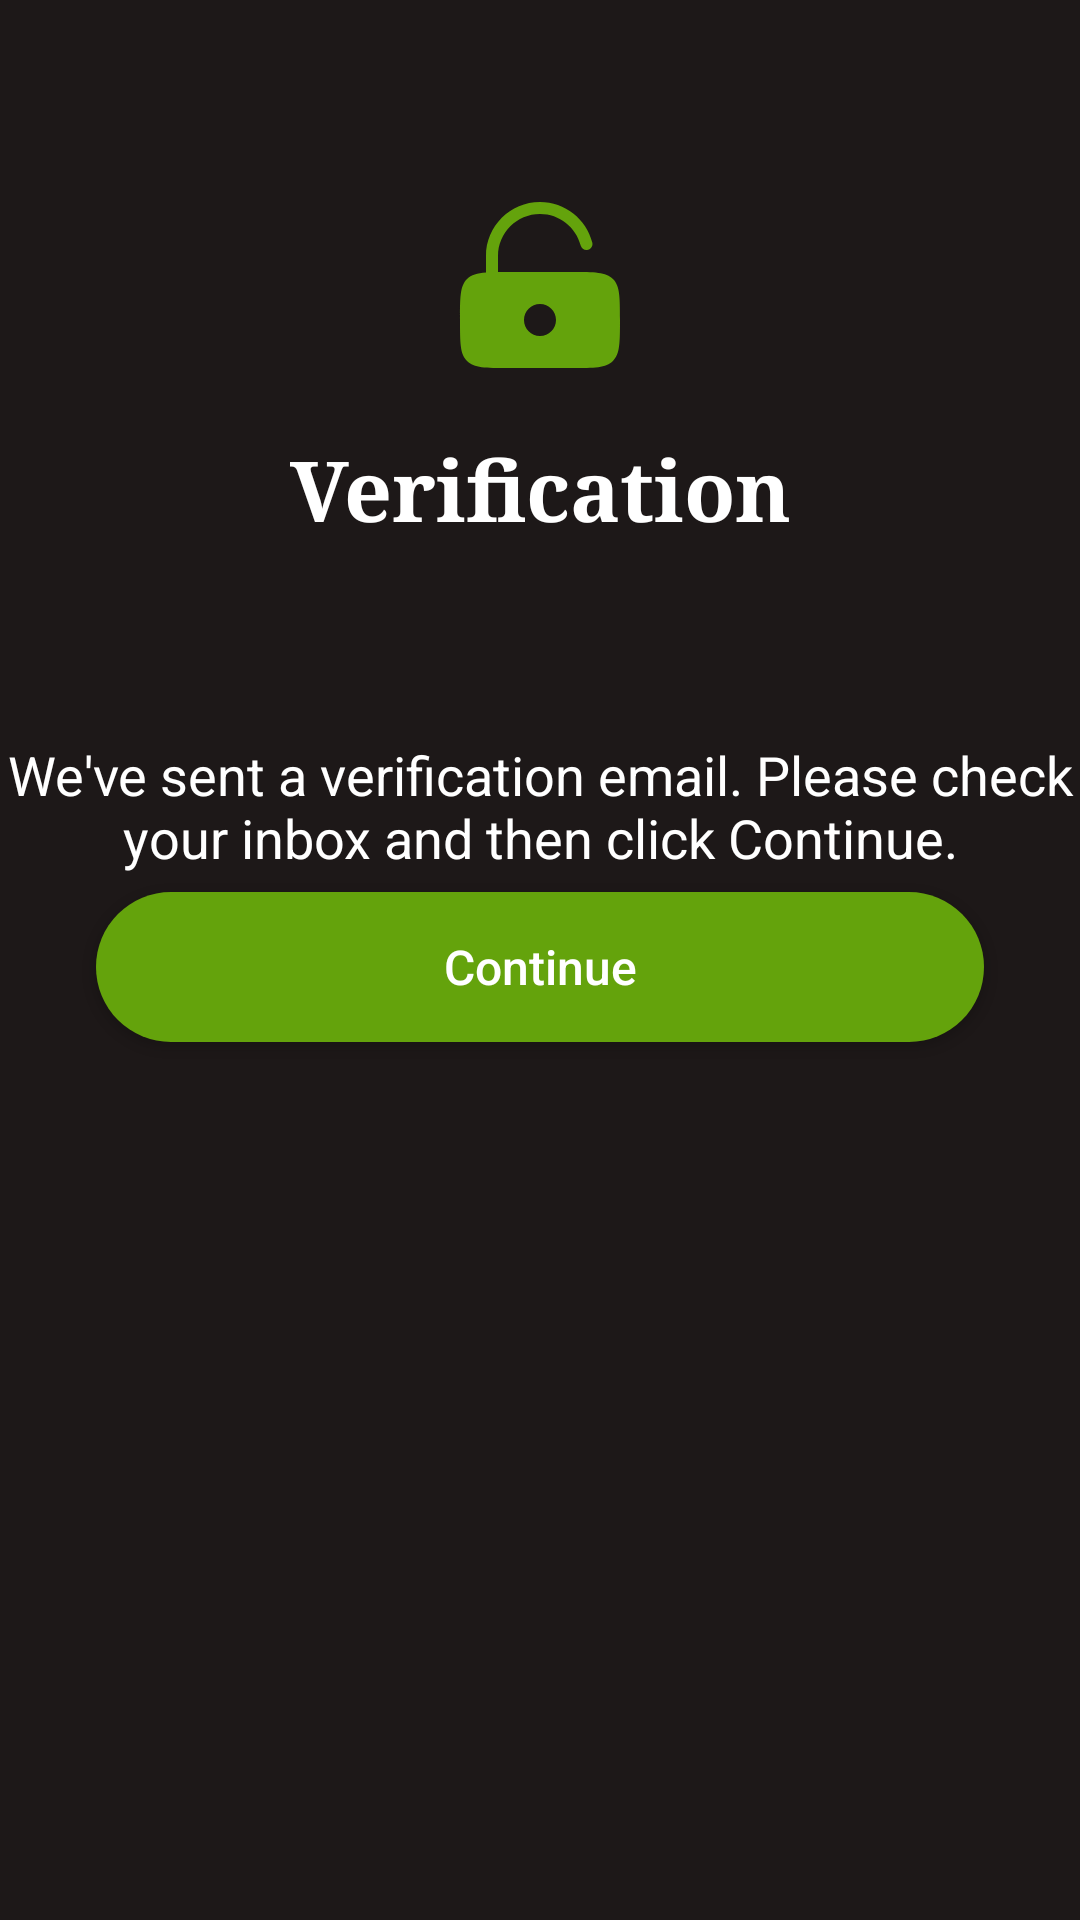

Screen size 1080w x 1920h. Icon name, then its center in pixels as [x,y]:
lock: [540,285]
